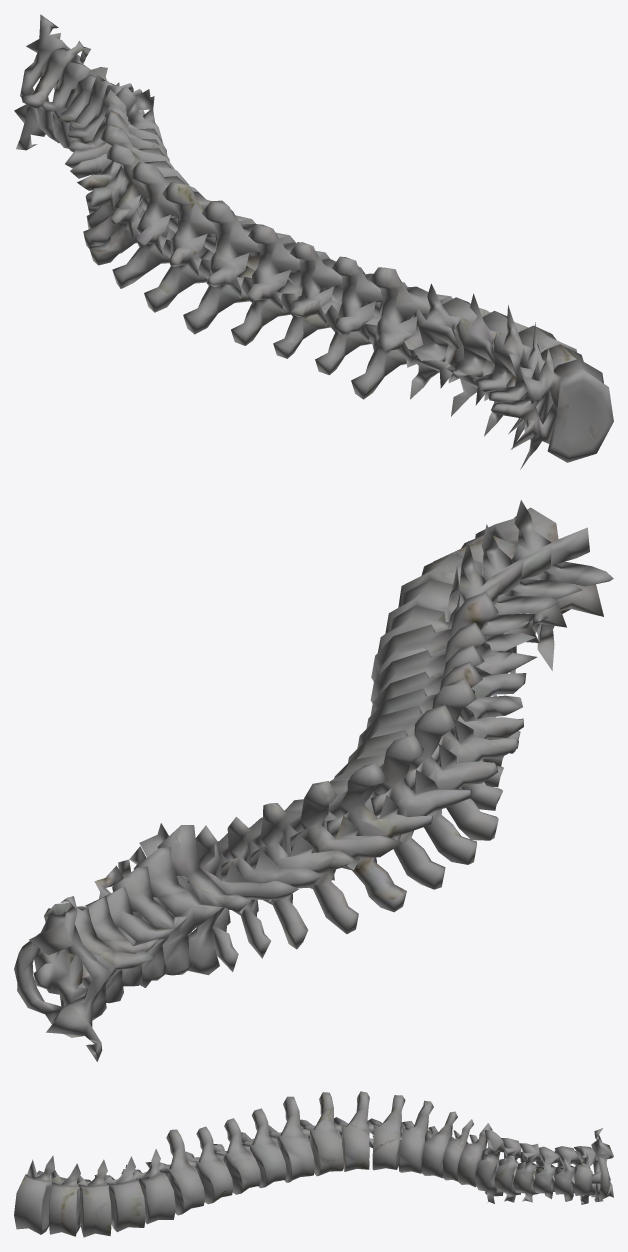
File: Dungeon_Spine.glb
3 renders of one model, top to bottom at view 1: azimuth 30°, elevation 25°; view 2: azimuth 150°, elevation 25°; view 3: azimuth 270°, elevation 25°, orthographic. The views are drawn at different scales.
Parts seen in each view (by area): view 1: Dungeon_Spine; view 2: Dungeon_Spine; view 3: Dungeon_Spine.
Part boxes in pixels (x1,y1,x2,y2): Dungeon_Spine: (14,14,613,469); Dungeon_Spine: (14,500,613,1061); Dungeon_Spine: (14,1091,613,1237).
Size of the model in its own units: 0.2615 by 0.1651 by 0.8915.
Materials: 1 (1 with a texture image).
